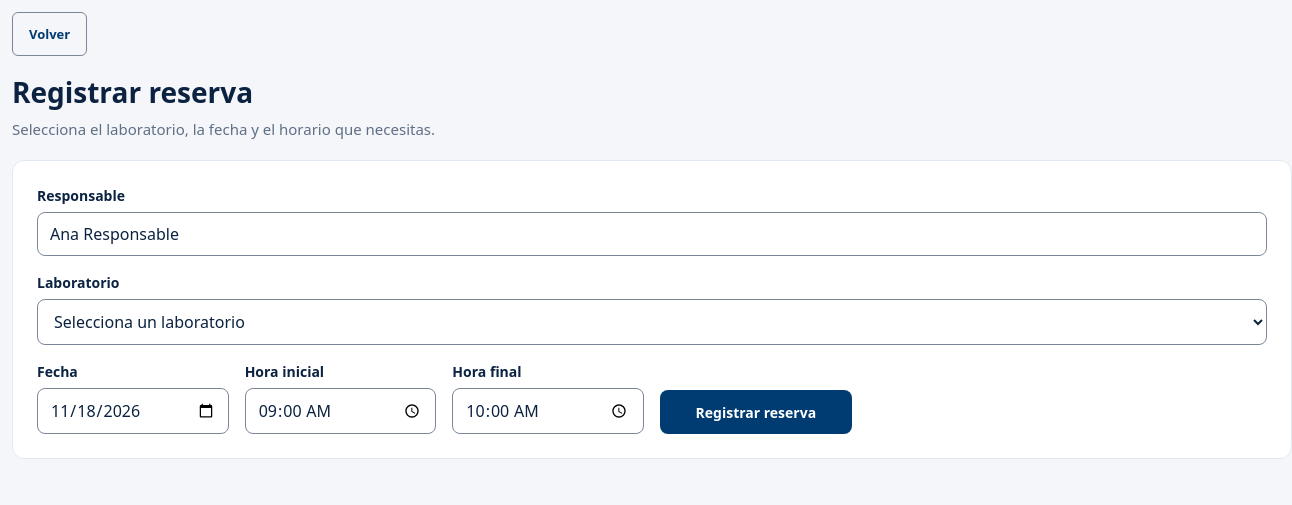
Test: props iniciales excluyen fuera de servicio y no permiten enviar su id precargado
Expected: the dropdown labelled "Laboratorio" shows "Selecciona un laboratorio", [37, 299, 1267, 345]
Click the button "Registrar reserva": coordinates (756, 412) [660, 390, 852, 434]
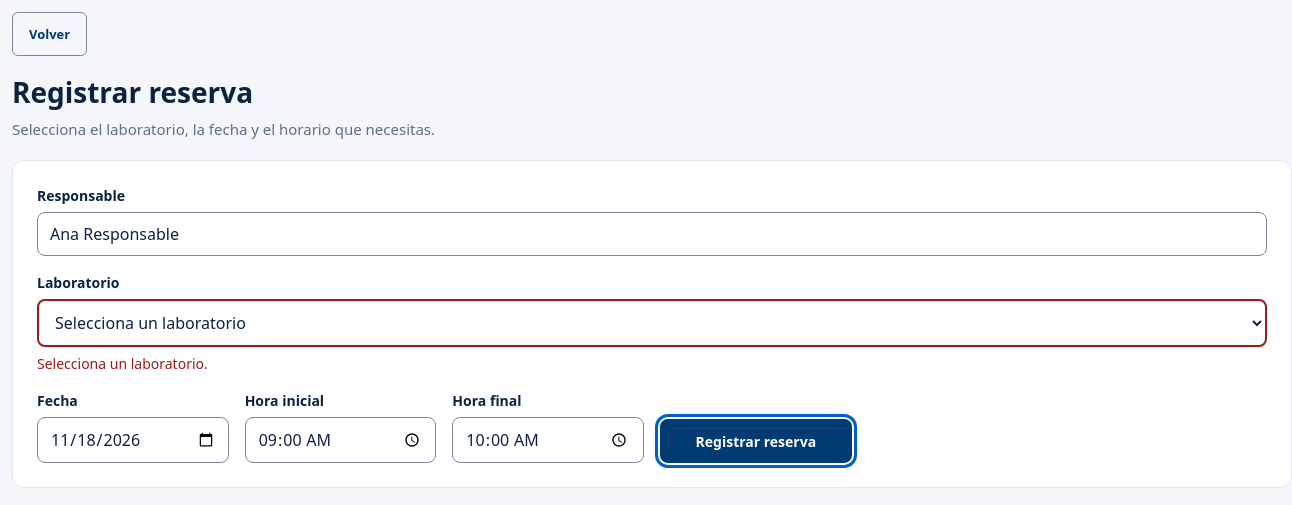
Expected: the dropdown labelled "Laboratorio" is marked as invalid, [37, 299, 1267, 347]
